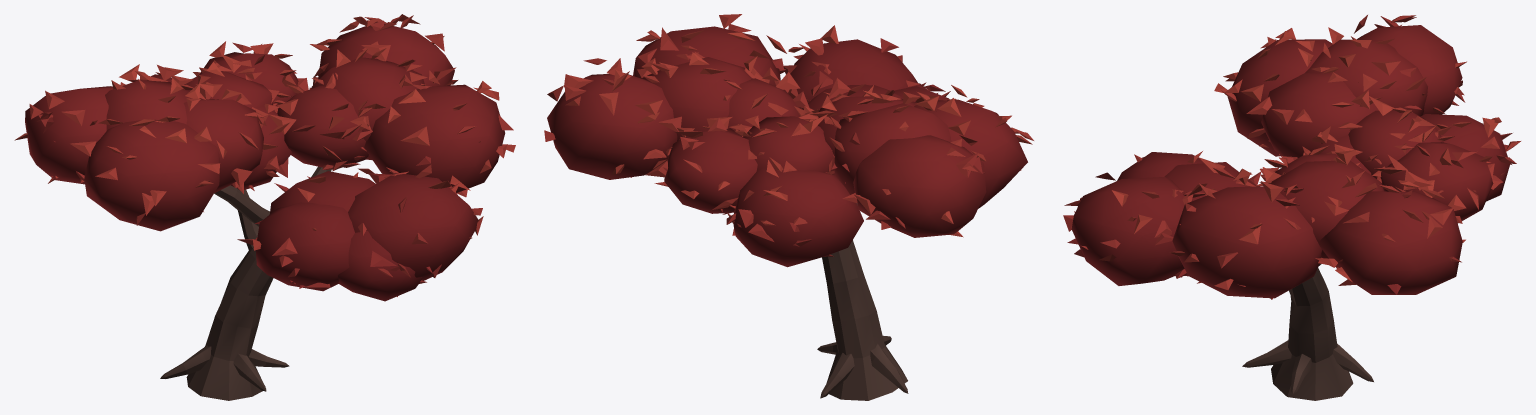
Rendered from momiji_1.glb.
3 renders of one model, left to right at view 1: azimuth 30°, elevation 25°; view 2: azimuth 150°, elevation 25°; view 3: azimuth 270°, elevation 25°, orthographic. The views are drawn at different scales.
Parts seen in each view (by area): view 1: momiji_1; view 2: momiji_1; view 3: momiji_1.
Boxes of the visible parts, left/top/right/bottom form: momiji_1: left=14, top=14, right=515, bottom=400; momiji_1: left=544, top=14, right=1033, bottom=400; momiji_1: left=1063, top=15, right=1520, bottom=400.
Size of the model in its own units: 10.03 by 7.09 by 9.38.
